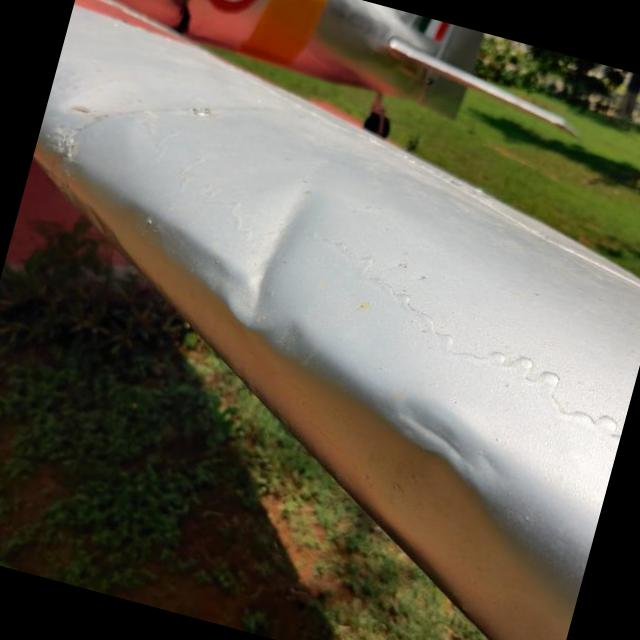Dent: (195, 159, 363, 368), (376, 382, 527, 532)
